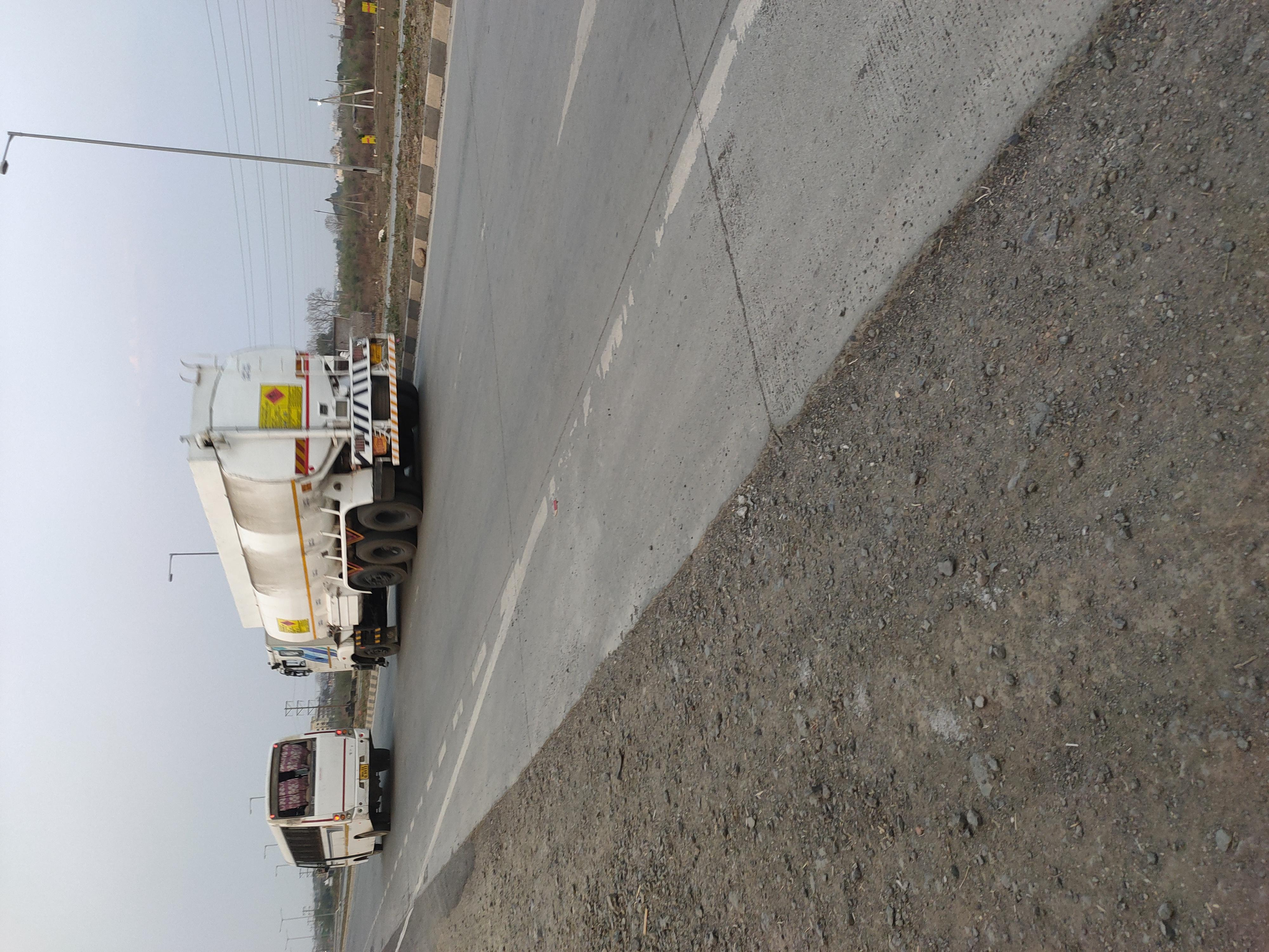License-Plate: (786, 277, 812, 286)
